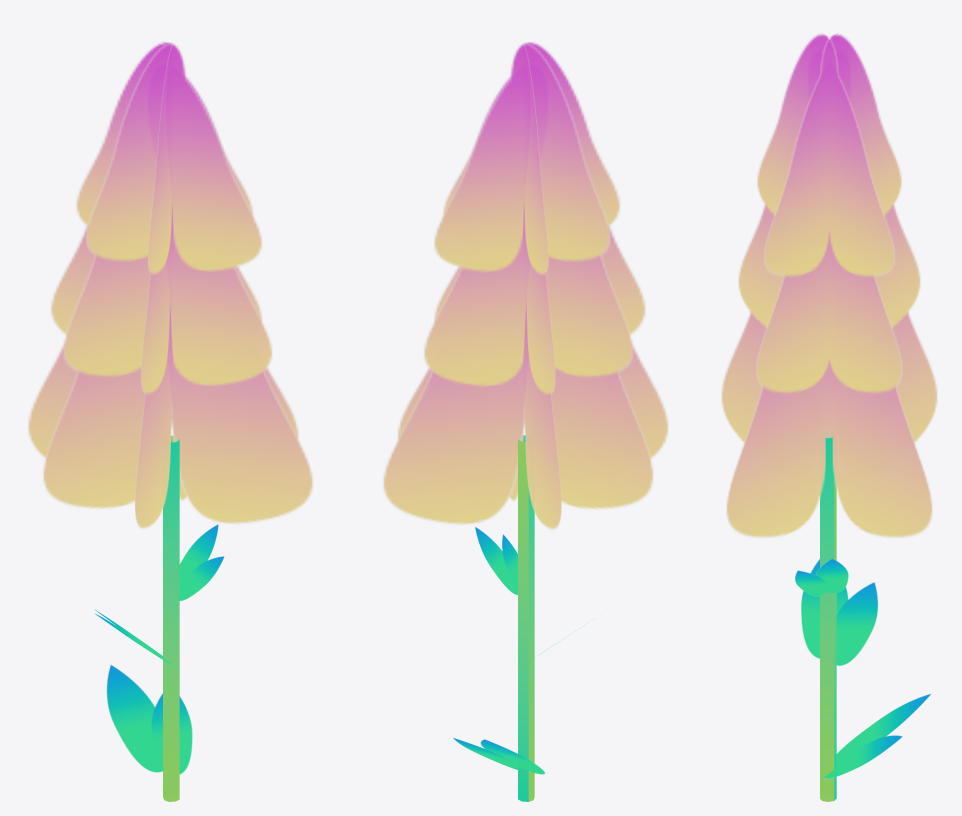
File: Flowers_n02_10.glb
The picture shows the model from 3 angles, left to right: view 1: azimuth 30°, elevation 25°; view 2: azimuth 150°, elevation 25°; view 3: azimuth 270°, elevation 25°; orthographic projection.
Visible parts, largest first — view 1: polySurface201.001; view 2: polySurface201.001; view 3: polySurface201.001.
Boxes of the visible parts, <box> form: polySurface201.001: <box>28,41,313,801</box>; polySurface201.001: <box>383,41,668,801</box>; polySurface201.001: <box>721,33,937,801</box>.
Size of the model in its own units: 0.1646 by 0.4275 by 0.1164.
Materials: 1 (1 with a texture image).
